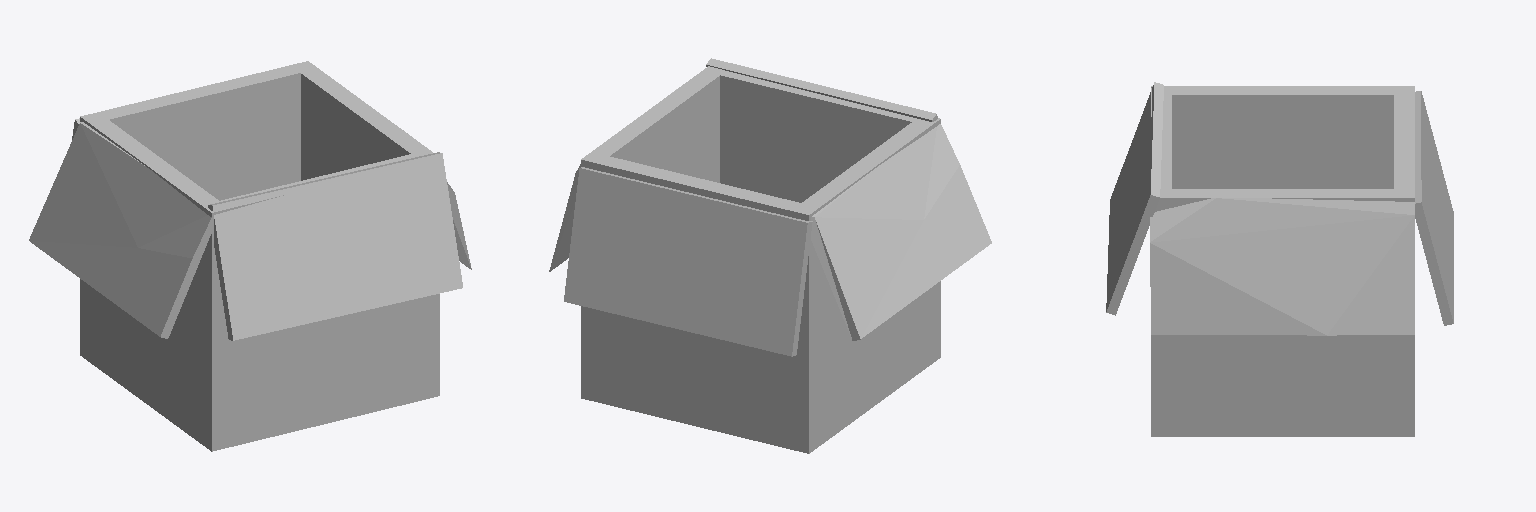
File: CardboardBox.OBJ
The picture shows the model from 3 angles: view 1: azimuth 30°, elevation 25°; view 2: azimuth 150°, elevation 25°; view 3: azimuth 270°, elevation 25°; orthographic projection.
Visible parts, largest first — view 1: Group18262; view 2: Group18262; view 3: Group18262.
Part boxes in pixels (x1,y1,x2,y2): Group18262: (29, 61, 471, 451); Group18262: (549, 58, 991, 453); Group18262: (1106, 82, 1453, 436).
Bounding box in the file's own units: 3.56 × 2.6 × 3.35.